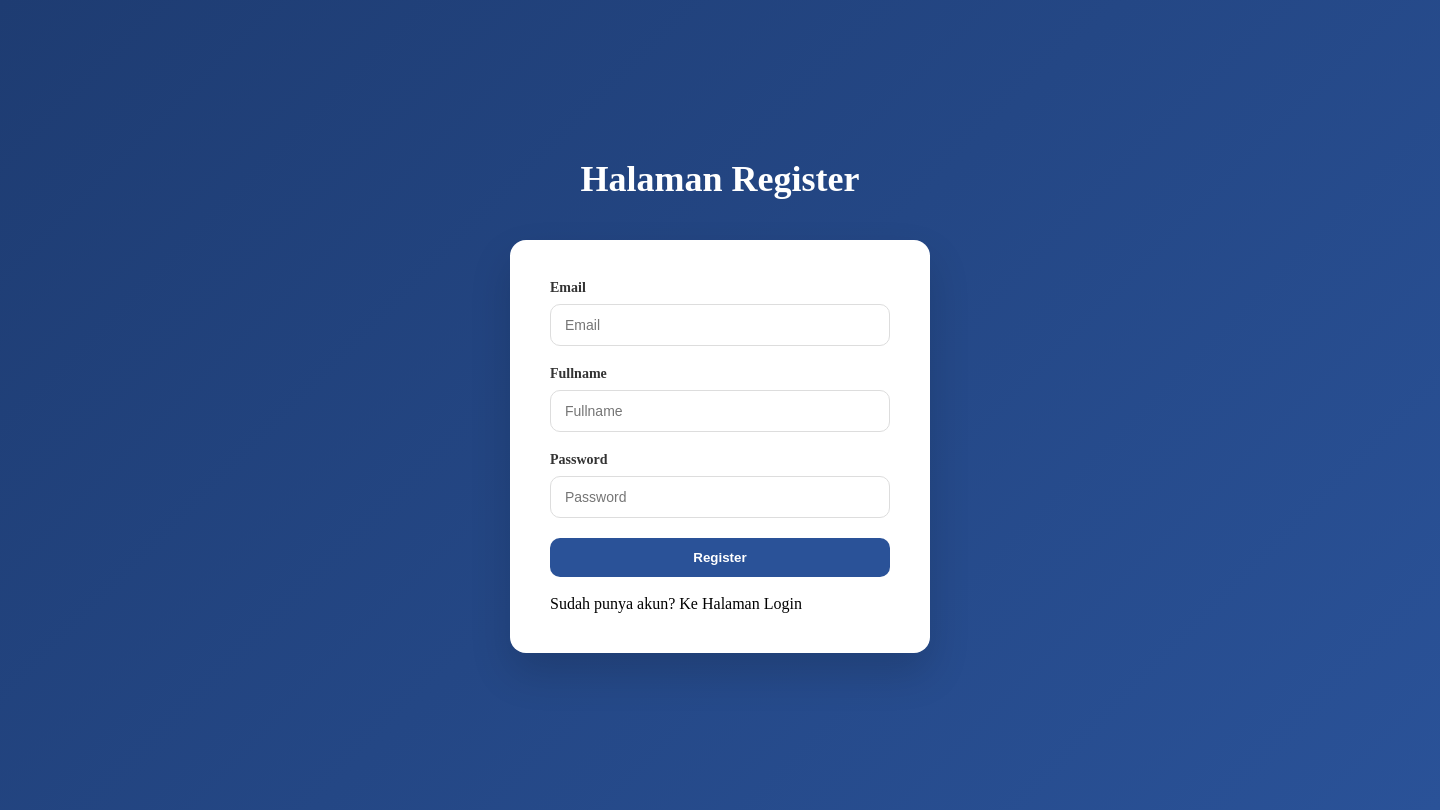
Test case: register page › shows error when email exists
The width and height of the screenshot is (1440, 810).
Click the button "Register".
click(720, 557)  # box [550,538,890,576]
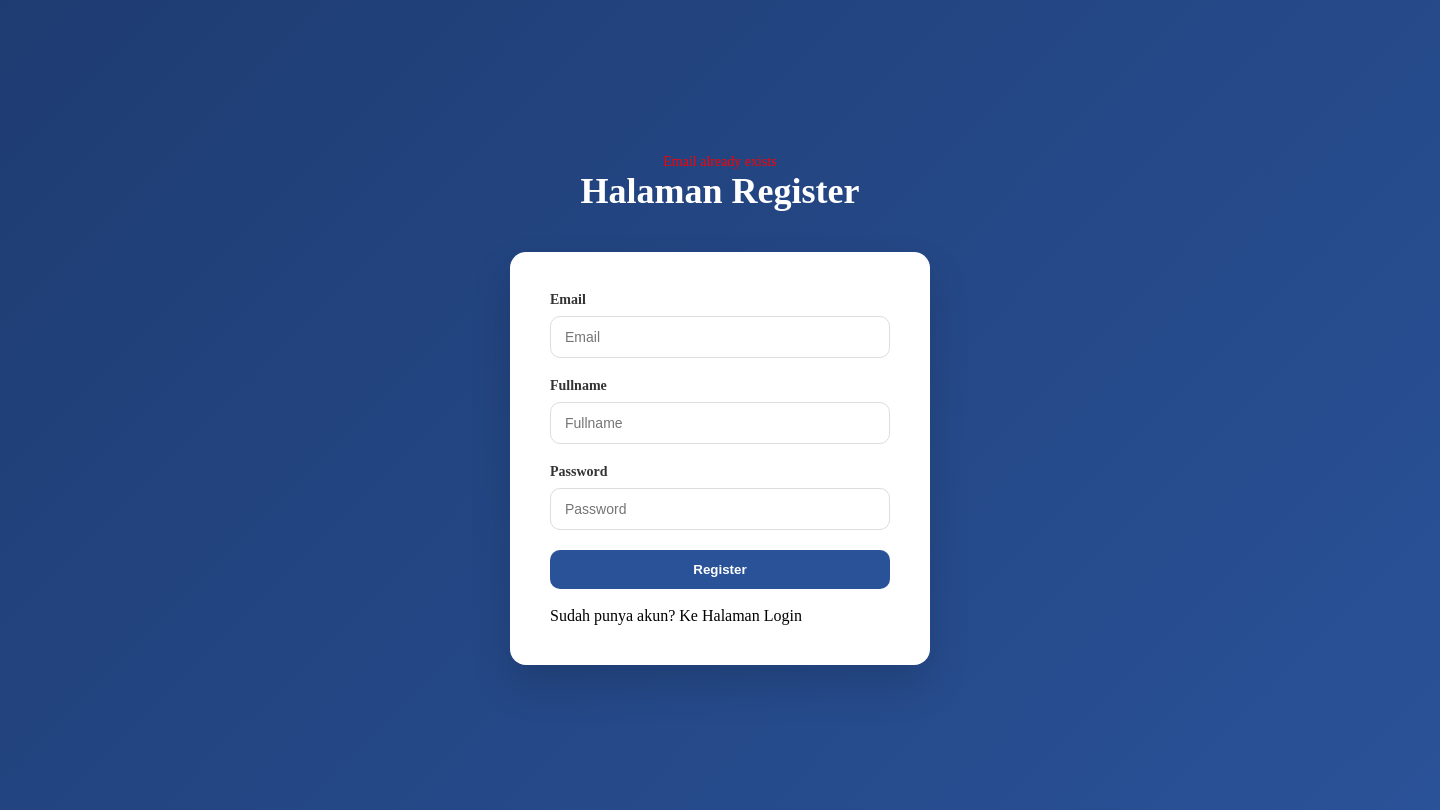
Expected: the text "Email already exists" is shown, [663,154,777,170]
